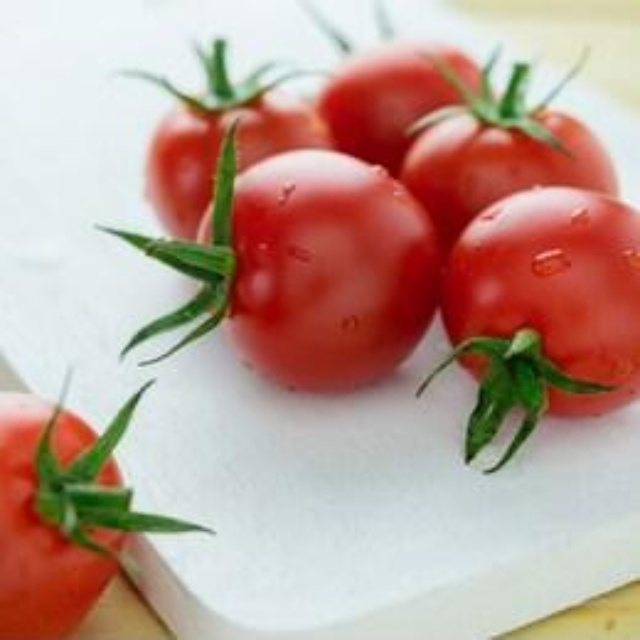tomato: (217, 144, 440, 400), (454, 190, 639, 465), (144, 78, 338, 253), (411, 107, 619, 238), (9, 394, 116, 633), (308, 42, 502, 167)
